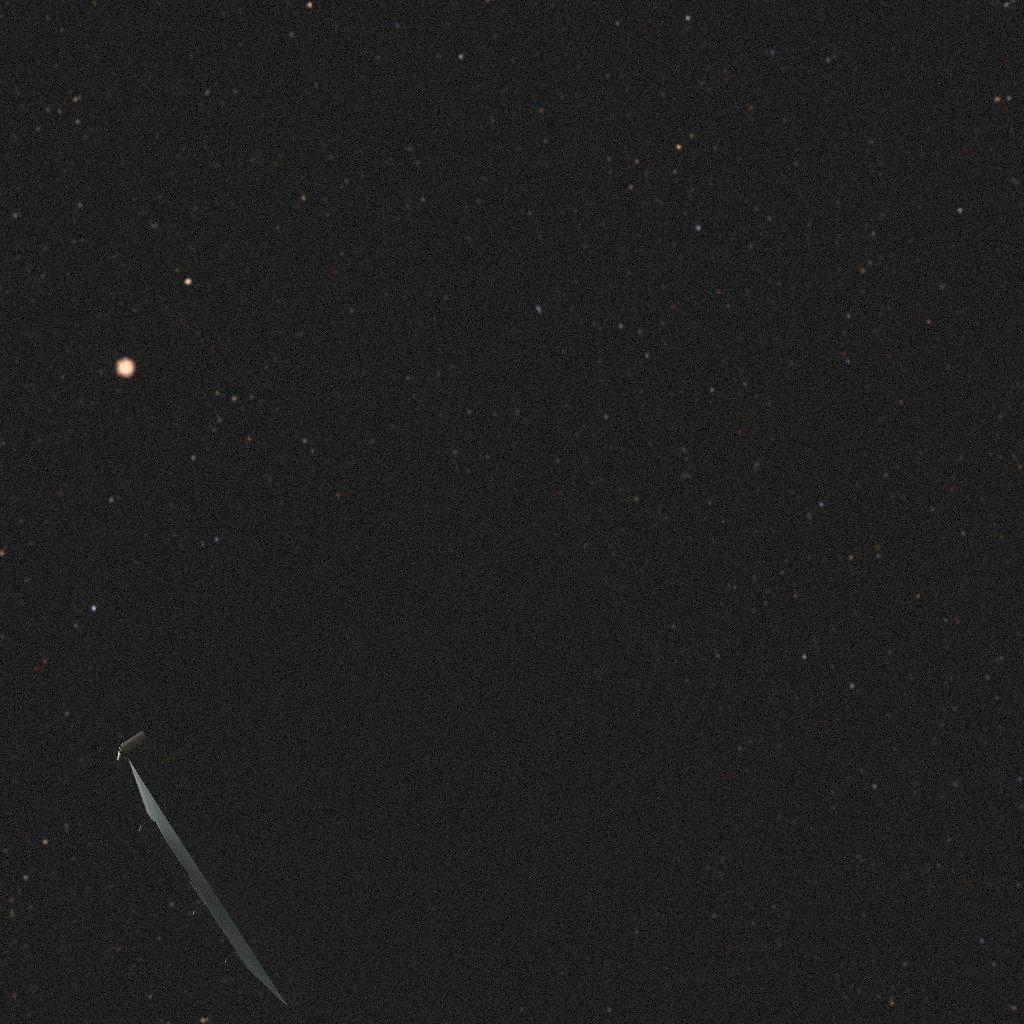cheops: (96, 467, 737, 1024)
